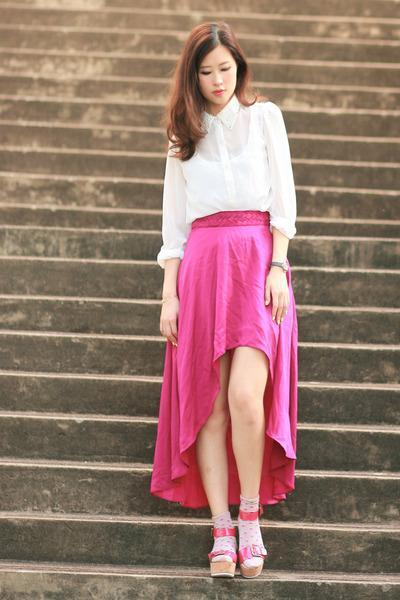shirt: (142, 97, 296, 251)
shoe: (206, 517, 275, 576)
skirt: (150, 210, 303, 515)
